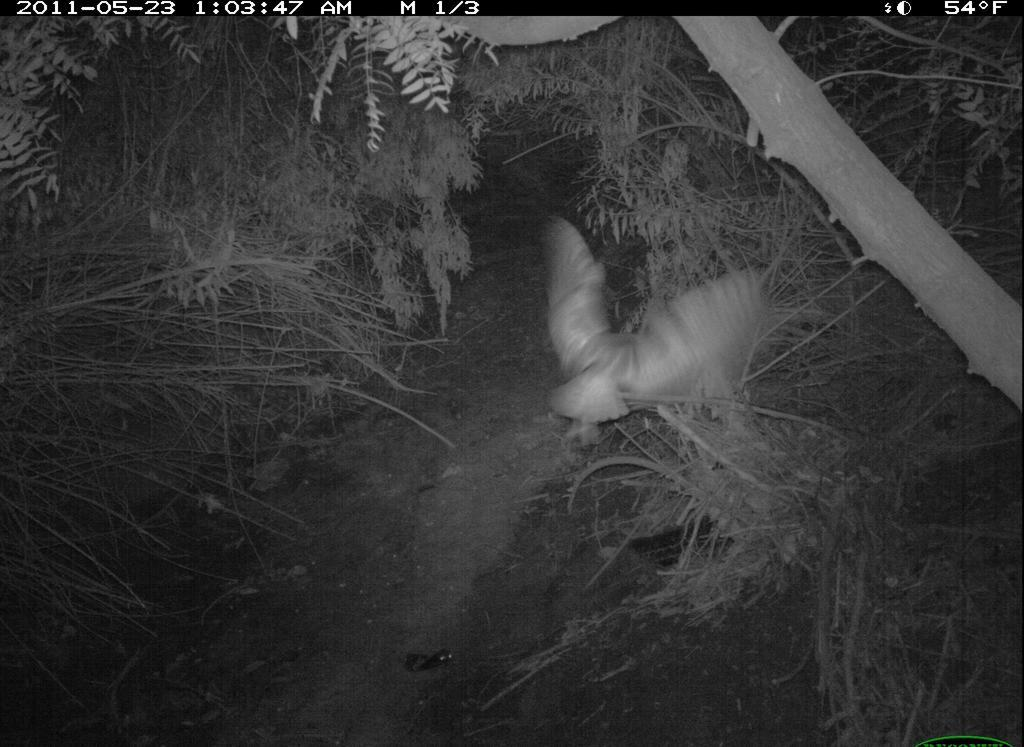bird: (535, 210, 778, 452)
